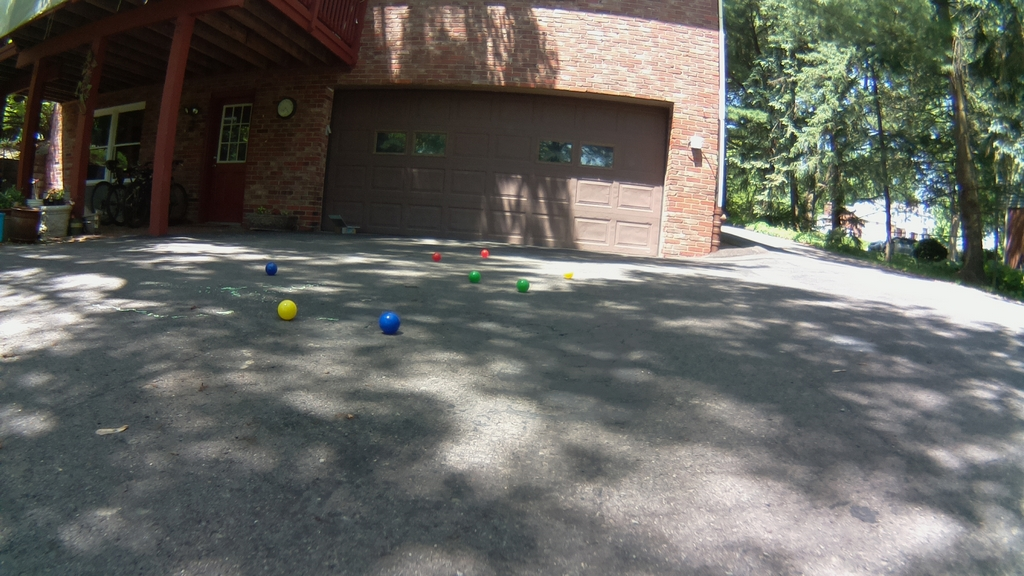ball: (381, 311, 399, 334)
